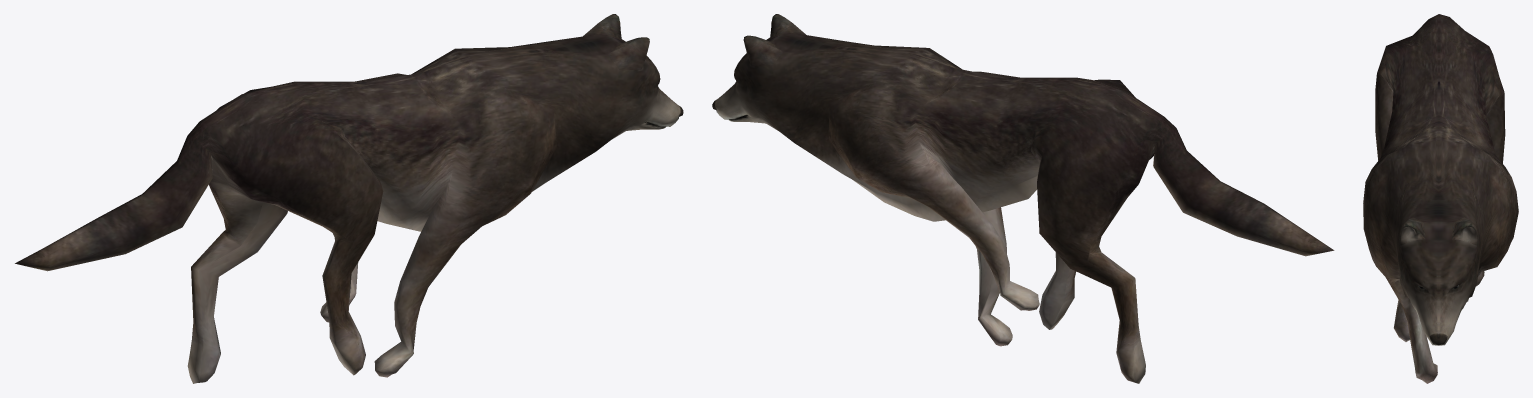
Rendered from wolf_running_000006.obj.
3 views of the same model, side by side, from view 1: azimuth 30°, elevation 25°; view 2: azimuth 150°, elevation 25°; view 3: azimuth 270°, elevation 25° (orthographic). The views are drawn at different scales.
Visible parts, largest first — view 1: Wolf1_Material__wolf_col_tga_0; view 2: Wolf1_Material__wolf_col_tga_0; view 3: Wolf1_Material__wolf_col_tga_0.
Boxes of the visible parts, x1,y1,x2,y2 form: Wolf1_Material__wolf_col_tga_0: (15, 14, 683, 383); Wolf1_Material__wolf_col_tga_0: (712, 14, 1334, 383); Wolf1_Material__wolf_col_tga_0: (1363, 14, 1518, 383).
Bounding box in the file's own units: 1.03 × 0.461 × 0.2145.
Materials: 2 (2 with a texture image).
